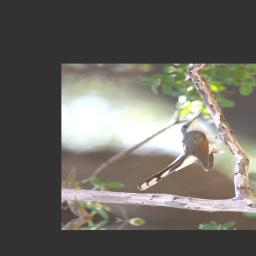Cuckoo: (130, 111, 245, 197)
